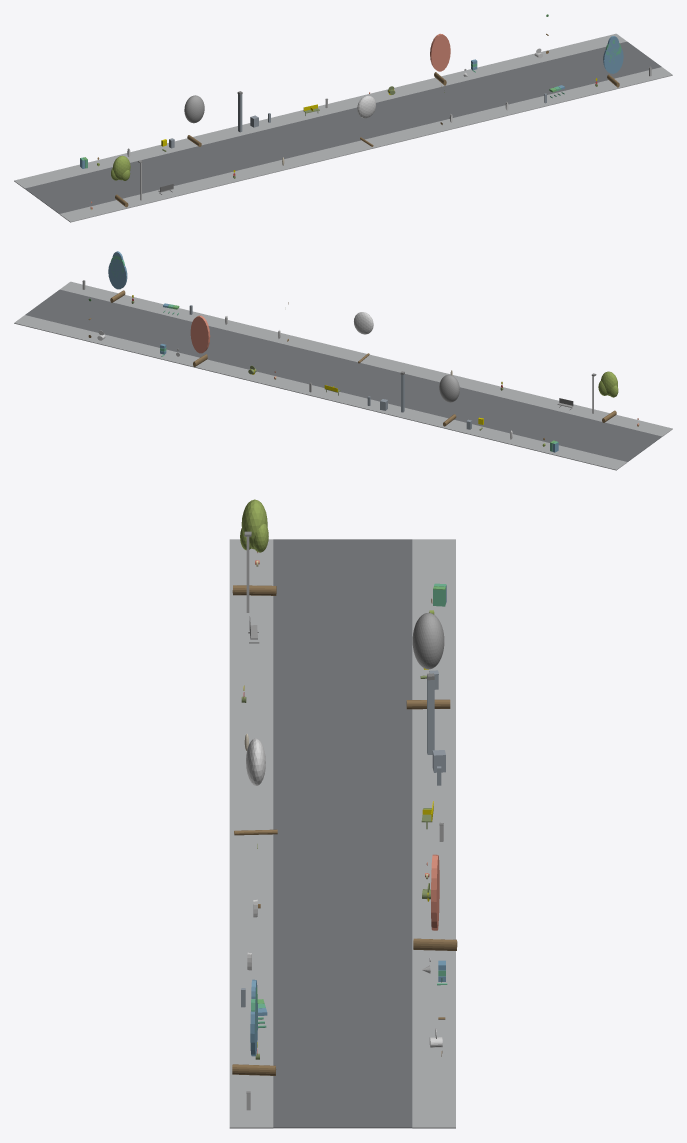
3 renders of one model, top to bottom at view 1: azimuth 30°, elevation 25°; view 2: azimuth 150°, elevation 25°; view 3: azimuth 270°, elevation 25°, orthographic. The views are drawn at different scales.
Visible parts, largest first — view 1: road_slab, sidewalk_left, sidewalk_right, inst_0015, inst_0016, inst_0013, inst_0012, inst_0014; view 2: road_slab, sidewalk_right, sidewalk_left, inst_0015, inst_0016, inst_0013, inst_0012, inst_0014; view 3: road_slab, sidewalk_left, sidewalk_right, inst_0013, inst_0012, inst_0015, inst_0016, inst_0014.
Part boxes in pixels (x1,y1,x2,y2): road_slab: (25, 41, 661, 213); sidewalk_left: (59, 67, 672, 222); sidewalk_right: (14, 33, 626, 188); inst_0015: (430, 33, 450, 85); inst_0016: (603, 36, 623, 87); inst_0013: (184, 95, 204, 146); inst_0012: (111, 155, 130, 207); inst_0014: (357, 95, 375, 146); road_slab: (25, 289, 661, 461); sidewalk_right: (14, 315, 627, 470); sidewalk_left: (60, 281, 672, 436); inst_0015: (190, 315, 210, 367); inst_0016: (108, 251, 127, 302); inst_0013: (439, 374, 459, 426); inst_0012: (598, 371, 618, 422); inst_0014: (354, 312, 373, 363); road_slab: (273, 539, 412, 1128); sidewalk_left: (229, 539, 273, 1128); sidewalk_right: (412, 539, 455, 1128); inst_0013: (406, 612, 450, 709); inst_0012: (232, 499, 276, 595); inst_0015: (413, 854, 457, 950); inst_0016: (232, 979, 276, 1075); inst_0014: (234, 738, 277, 835).
Size of the model in its own units: 80 by 6.08 by 13.08.
